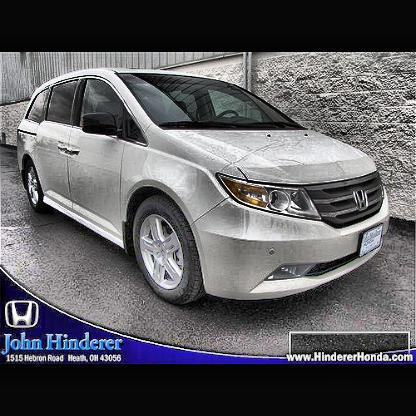Honda Odyssey Minivan 2012: (18, 68, 389, 306)
